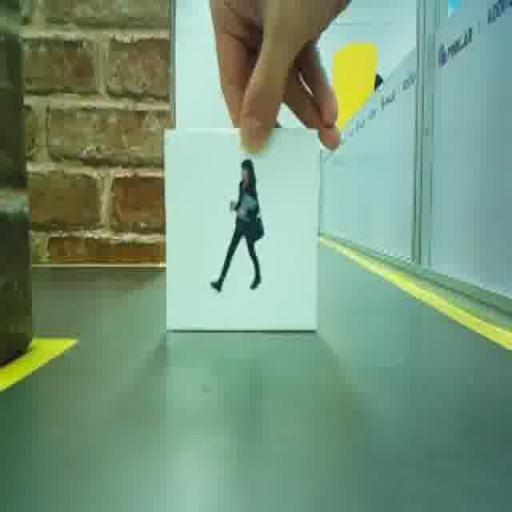human: (210, 159, 264, 291)
